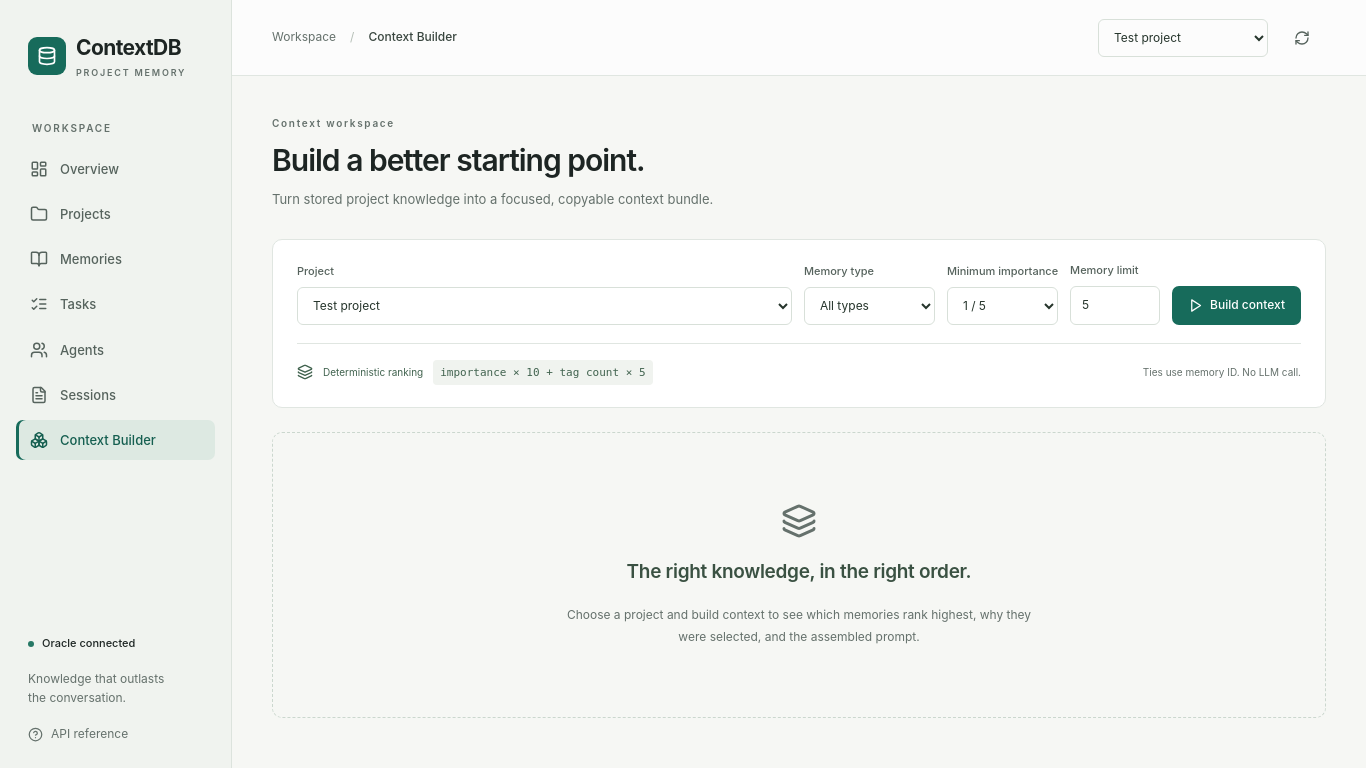
Scenario: Core workflows › builds and copies deterministic context
What coordinates should you click on to do the following:
click the button "Build context"
I would click on:
 (1237, 306)
Its box is [1172,286,1301,325].
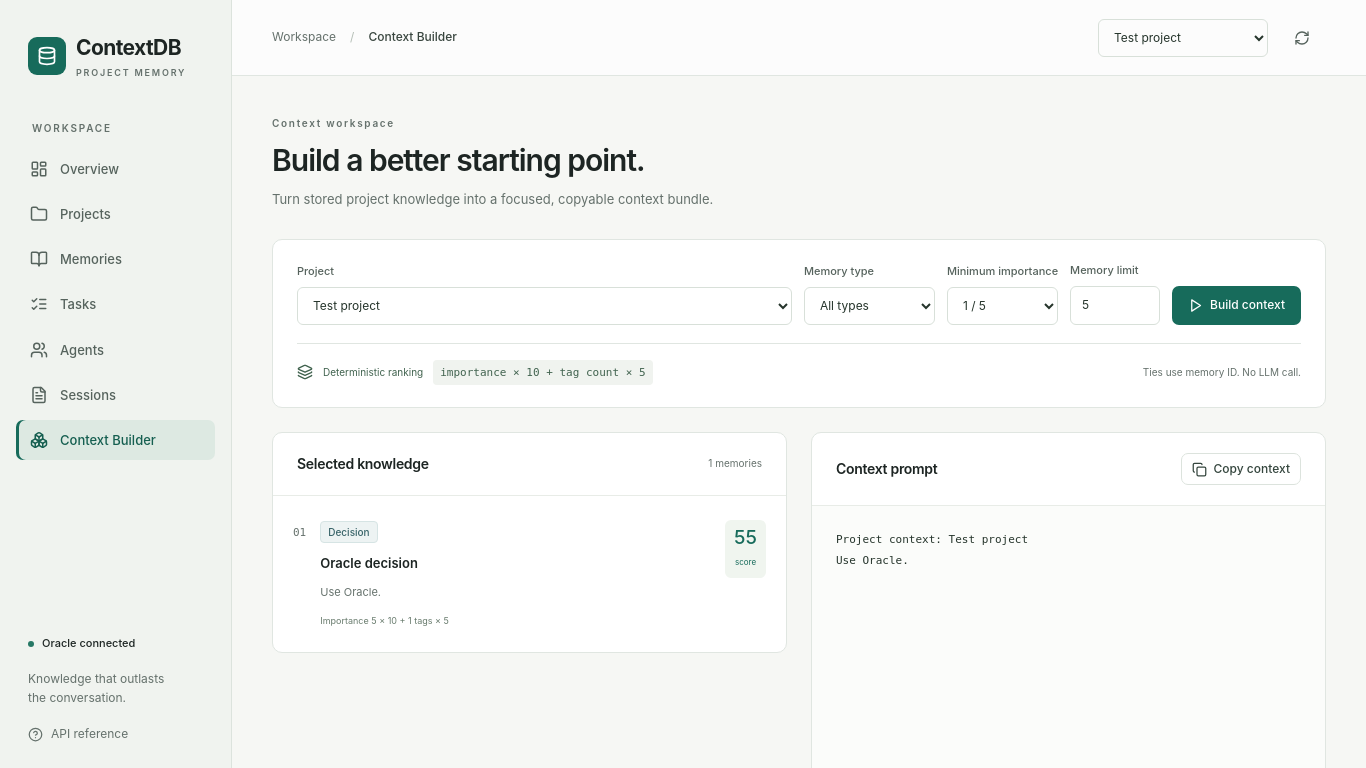
Expected: the heading "Selected knowledge" is shown, [297,453,429,474]
Expected: the text "55" is shown, [734,526,757,549]
What coordinates should you click on to do the following:
click the button "Copy context"
I would click on:
 (1241, 469)
Its box is [1180,453,1301,485].
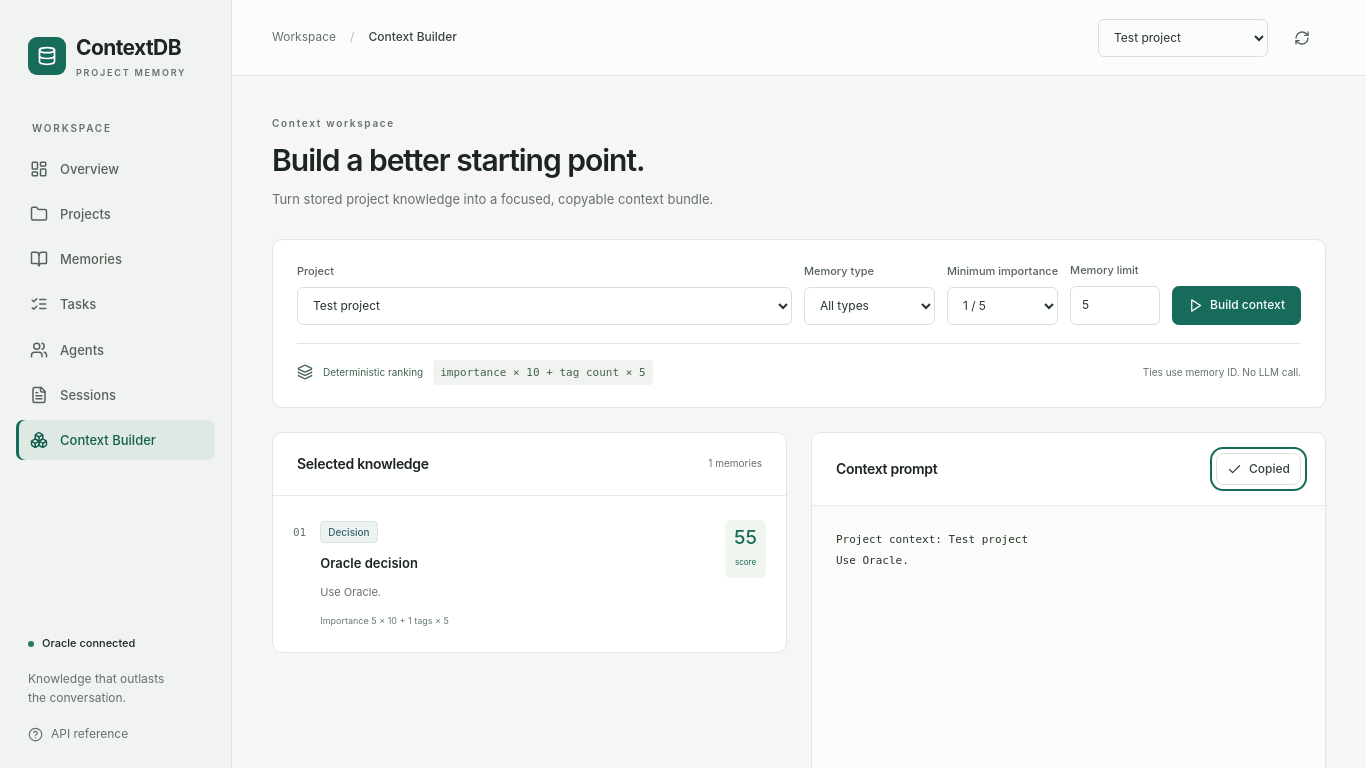
Expected: the text "Copied" is shown, [1249,460,1290,478]
